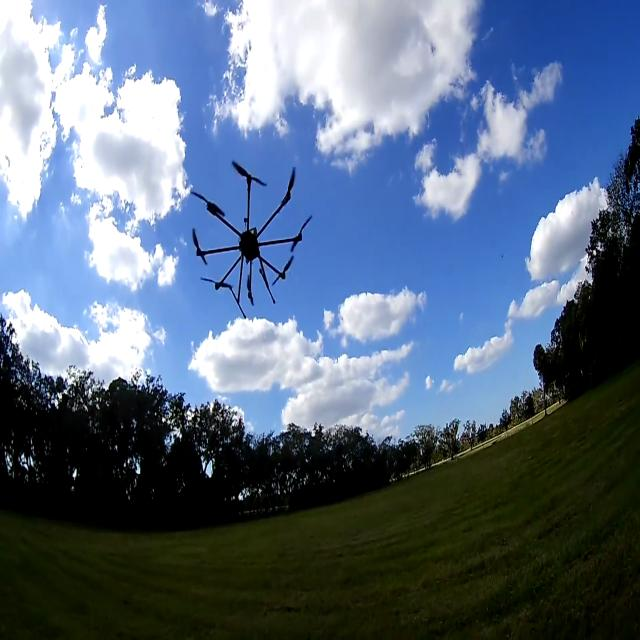drone: (182, 125, 318, 322)
